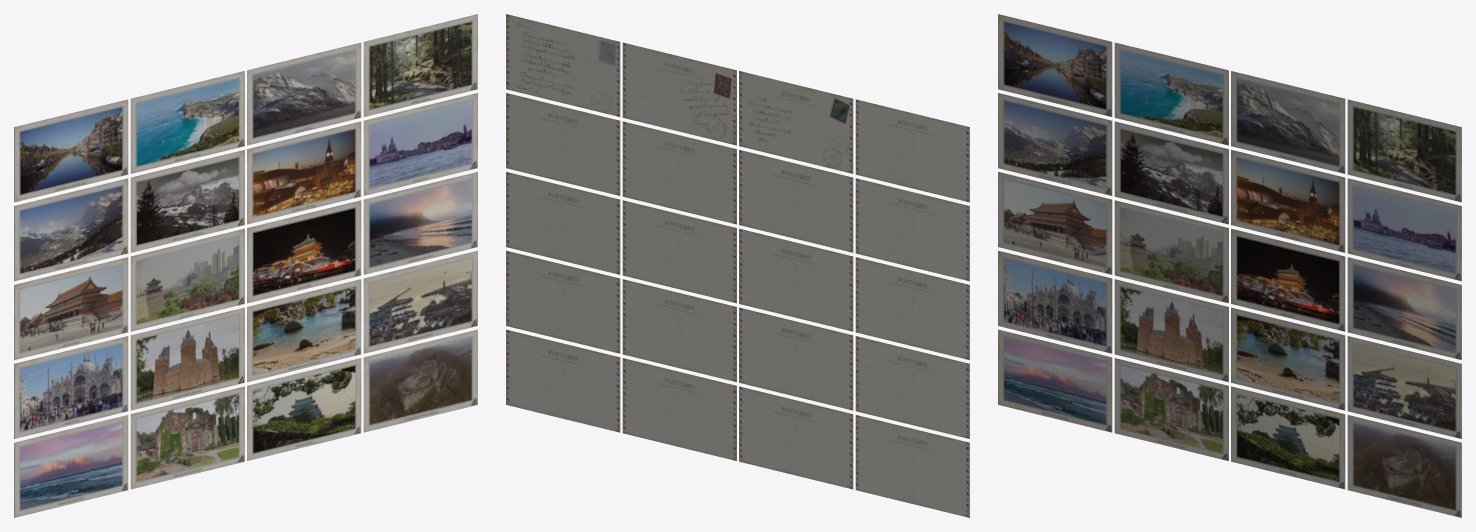
File: postcard_set_01.glb
3 renders of one model, left to right at view 1: azimuth 30°, elevation 25°; view 2: azimuth 150°, elevation 25°; view 3: azimuth 330°, elevation 25°, orthographic.
Visible parts, largest first — view 1: postcard_01; view 2: postcard_01; view 3: postcard_01.
Part boxes in pixels (x1,y1,x2,y2): postcard_01: (14, 14, 477, 517); postcard_01: (506, 14, 969, 517); postcard_01: (998, 14, 1461, 517).
Size of the model in its own units: 0.6767 by 0.545 by 0.000165.
1 material, 1 textured.
